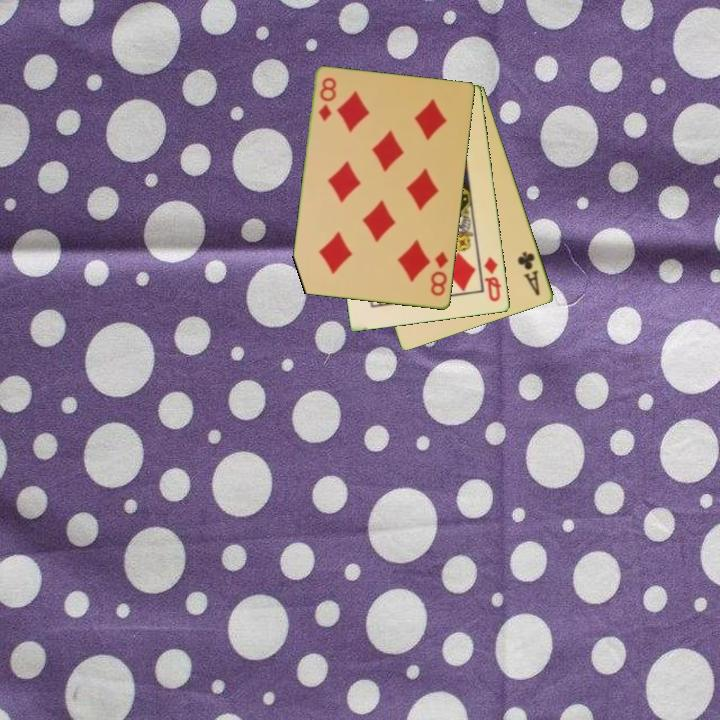8d: (427, 248, 452, 299), (315, 74, 339, 124)
Ac: (514, 248, 543, 299)
Qd: (481, 254, 504, 305)
